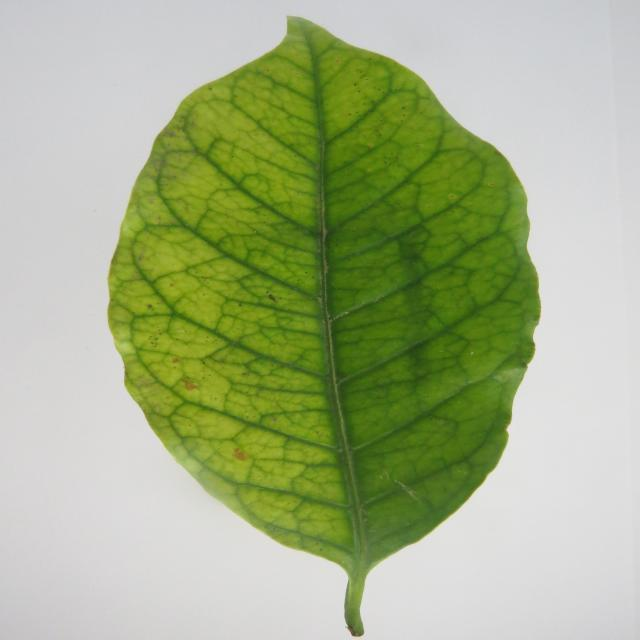DeficienciaNutricional-Magnesio: (110, 18, 538, 635)
